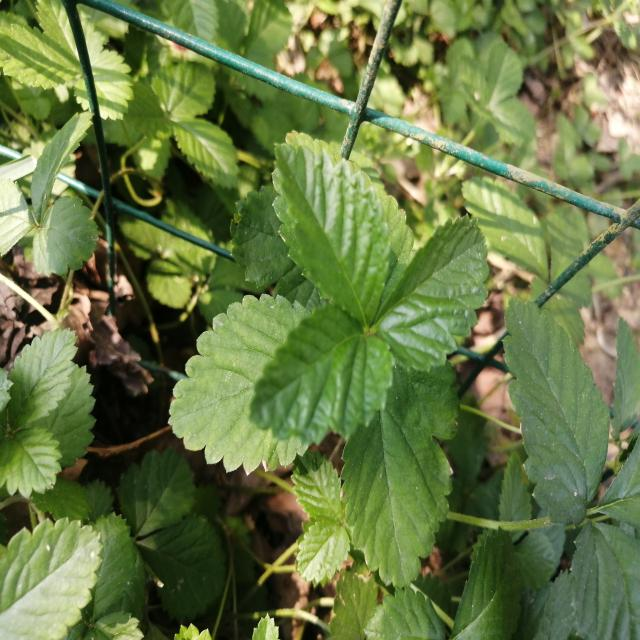Mock_strawberry: (241, 136, 470, 427)
